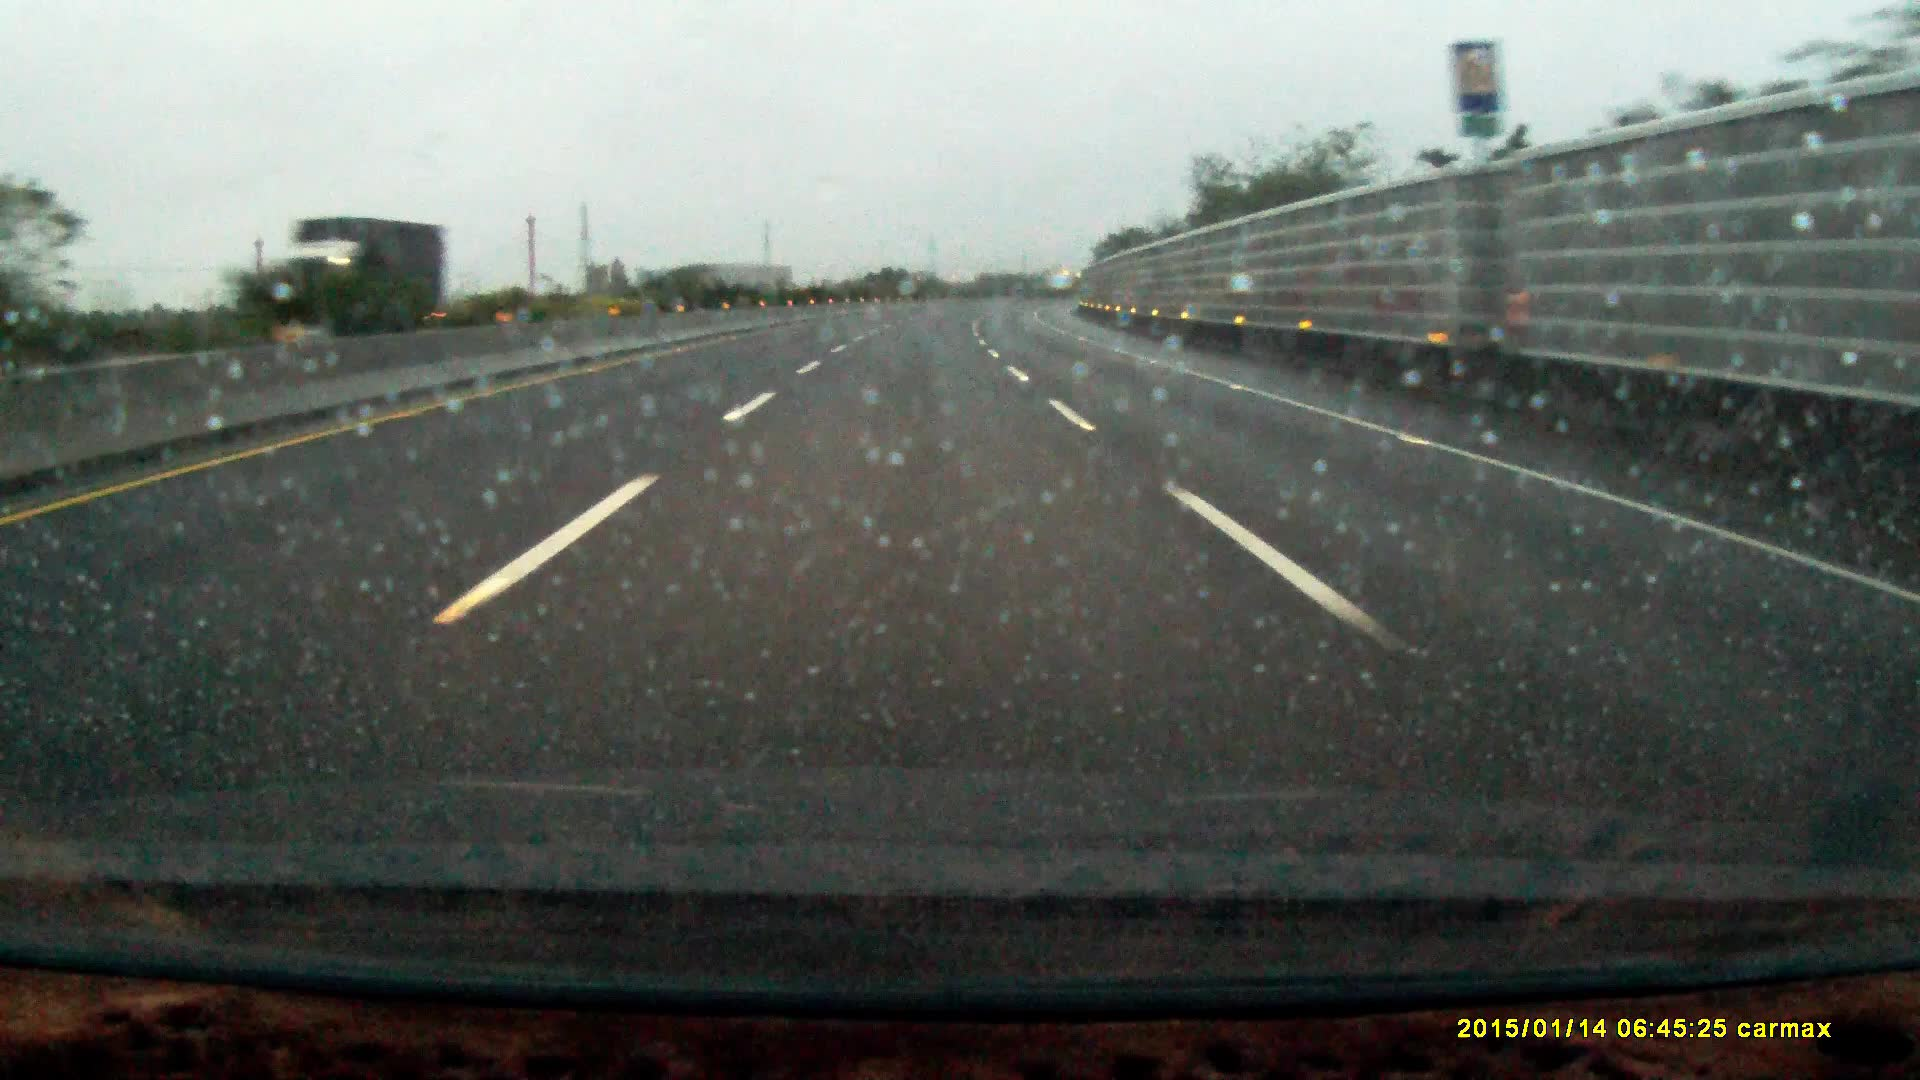vehicle: (270, 215, 451, 338)
